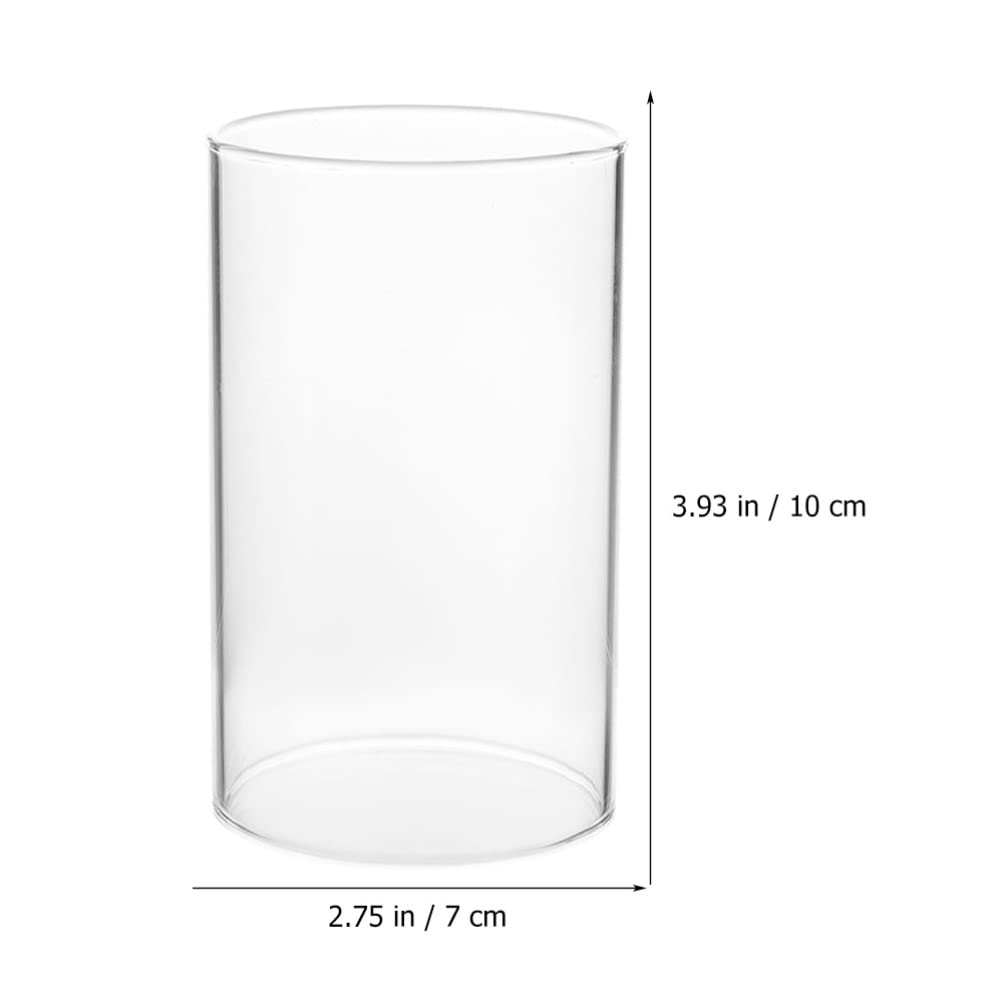10: (792, 494, 819, 517)
2.75: (329, 905, 383, 927)
3.93: (673, 494, 726, 517)
cm: (830, 500, 865, 517)
in/: (738, 494, 779, 521)
